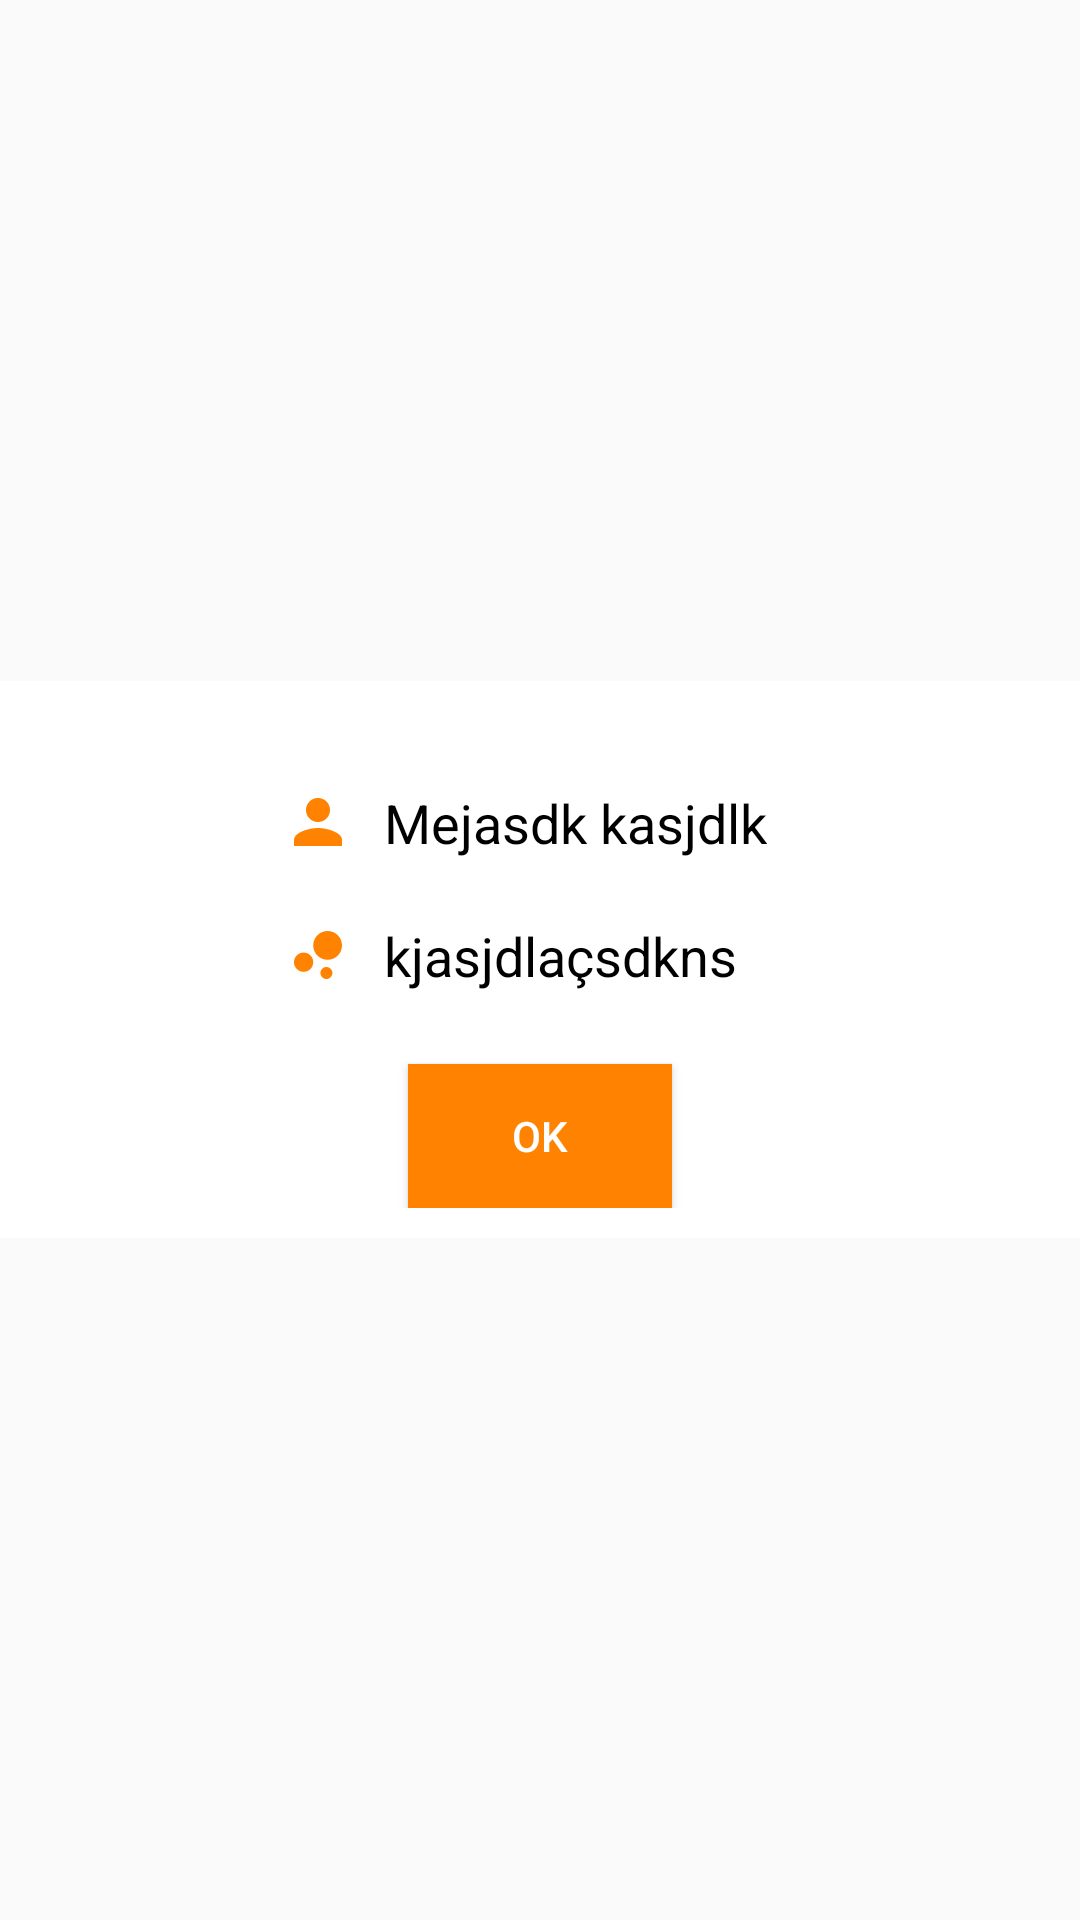

Icon bounding boxes for this 1080×1920 phone screenshot, format Rect(x1, y1, x2, y2):
user name: Rect(294, 798, 342, 846)
